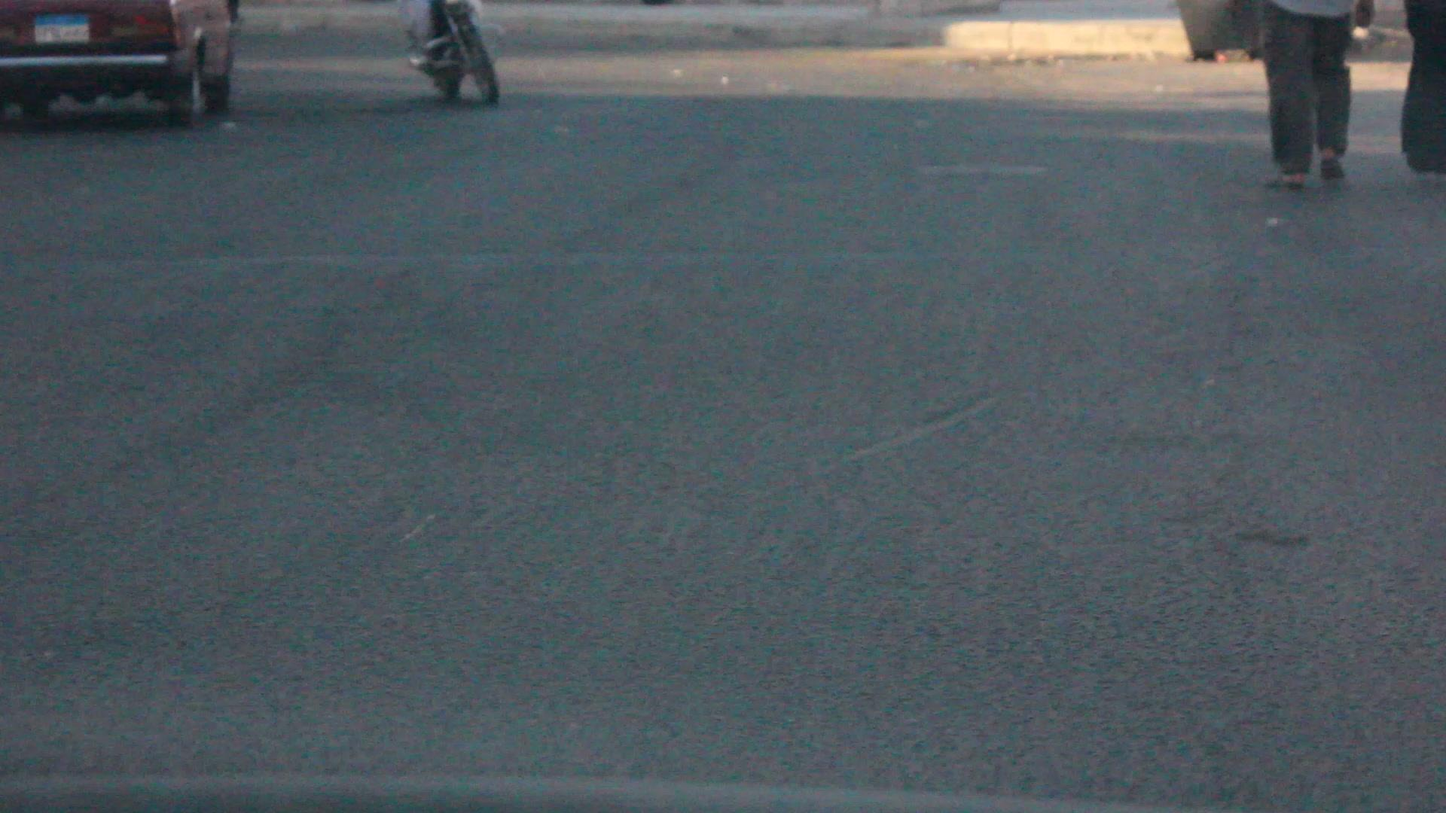Bump: (0, 241, 1446, 363)
